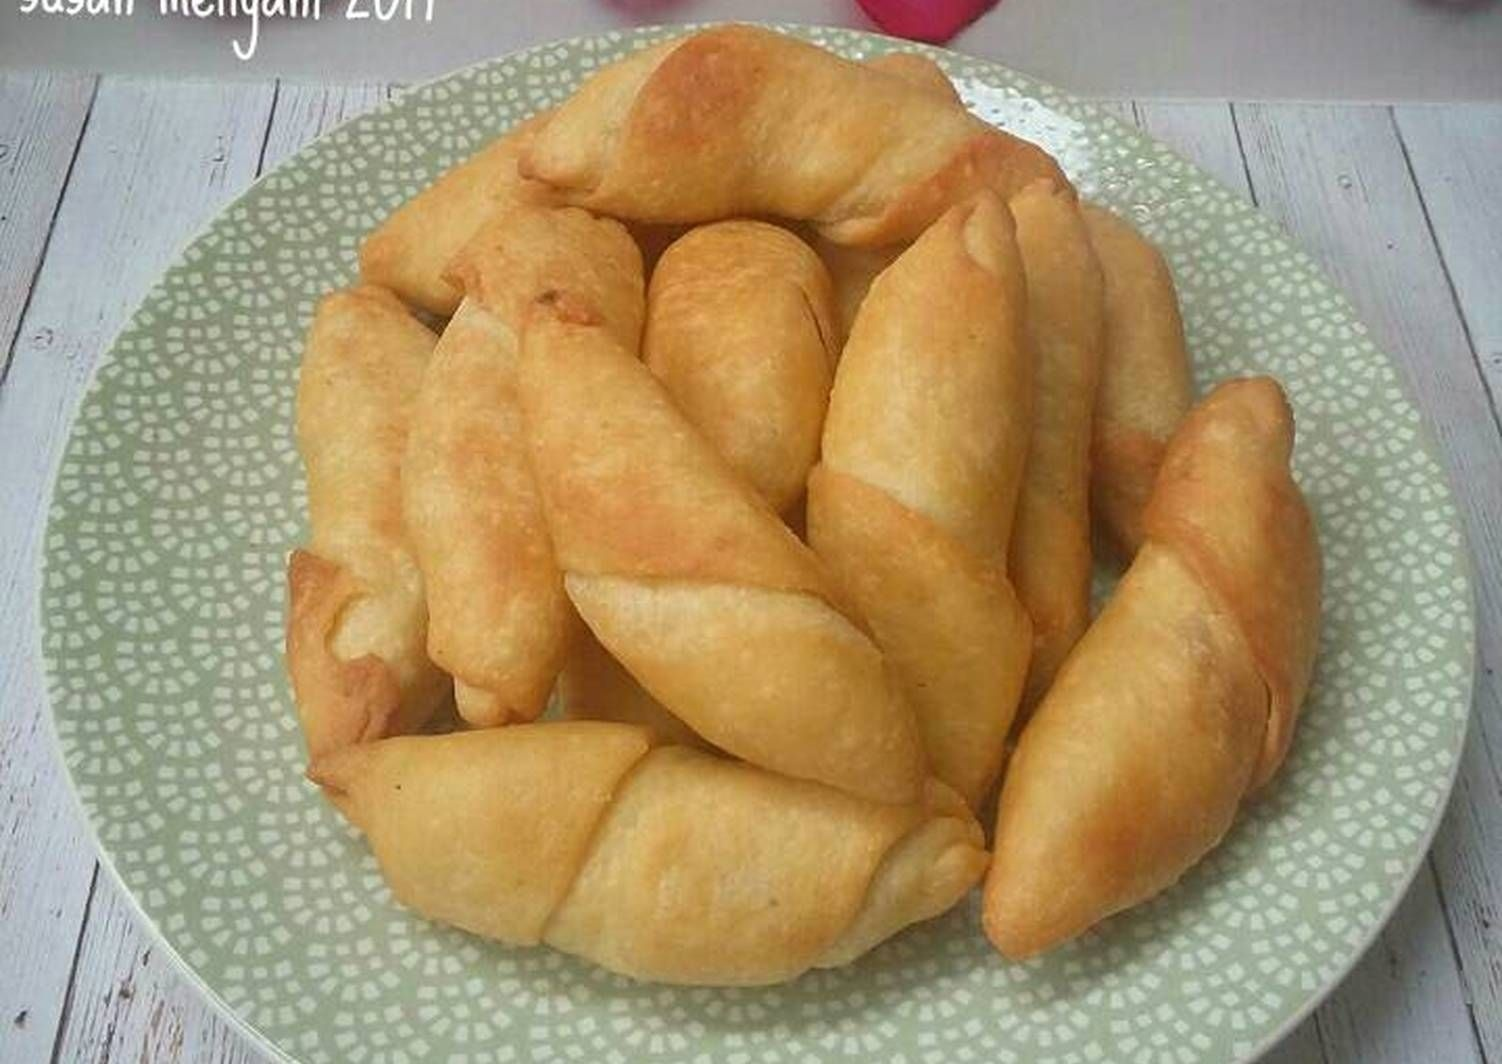pisang_molen: (516, 301, 917, 804), (985, 372, 1327, 960), (302, 717, 991, 991), (889, 191, 1023, 778), (396, 301, 546, 721)
